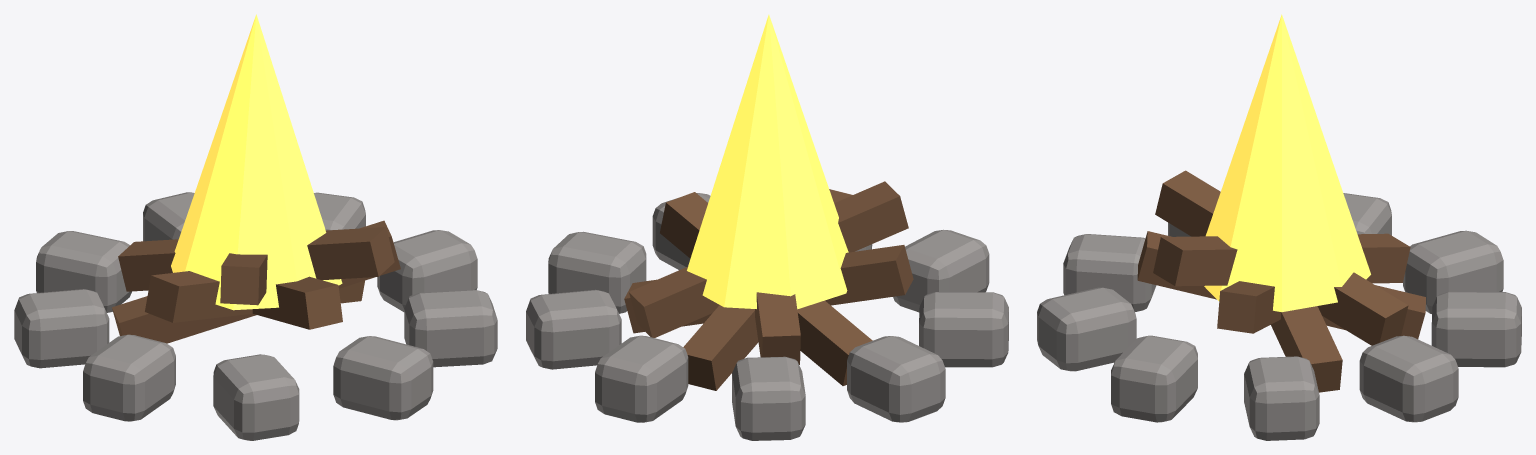
File: Campfire.glb
3 renders of one model, left to right at view 1: azimuth 30°, elevation 25°; view 2: azimuth 150°, elevation 25°; view 3: azimuth 270°, elevation 25°, orthographic.
Visible parts, largest first — view 1: Campfire; view 2: Campfire; view 3: Campfire.
Part boxes in pixels (x1,y1,x2,y2): Campfire: (14, 14, 497, 440); Campfire: (526, 14, 1008, 440); Campfire: (1037, 14, 1521, 440).
Bounding box in the file's own units: 1.5 × 1.14 × 1.52.
